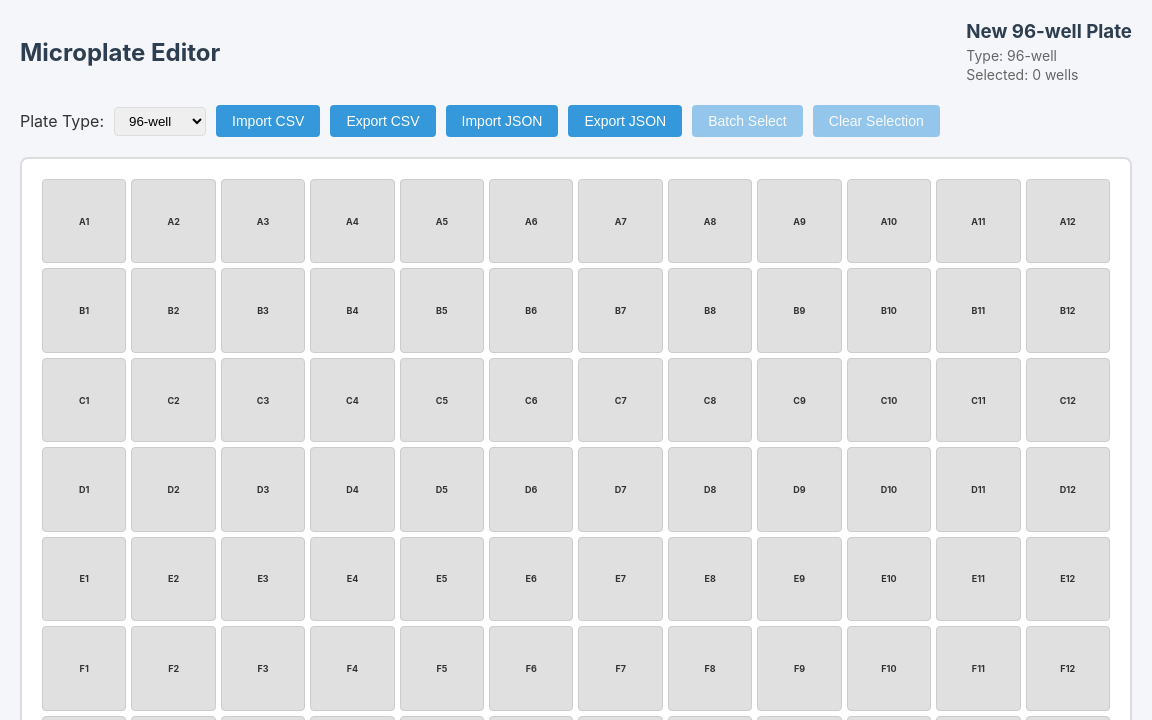
Test: MicroplateEditor › selects a well on click
# Click A1 by label text
Click the text "A1" at [84, 221], box [42,179,126,263]
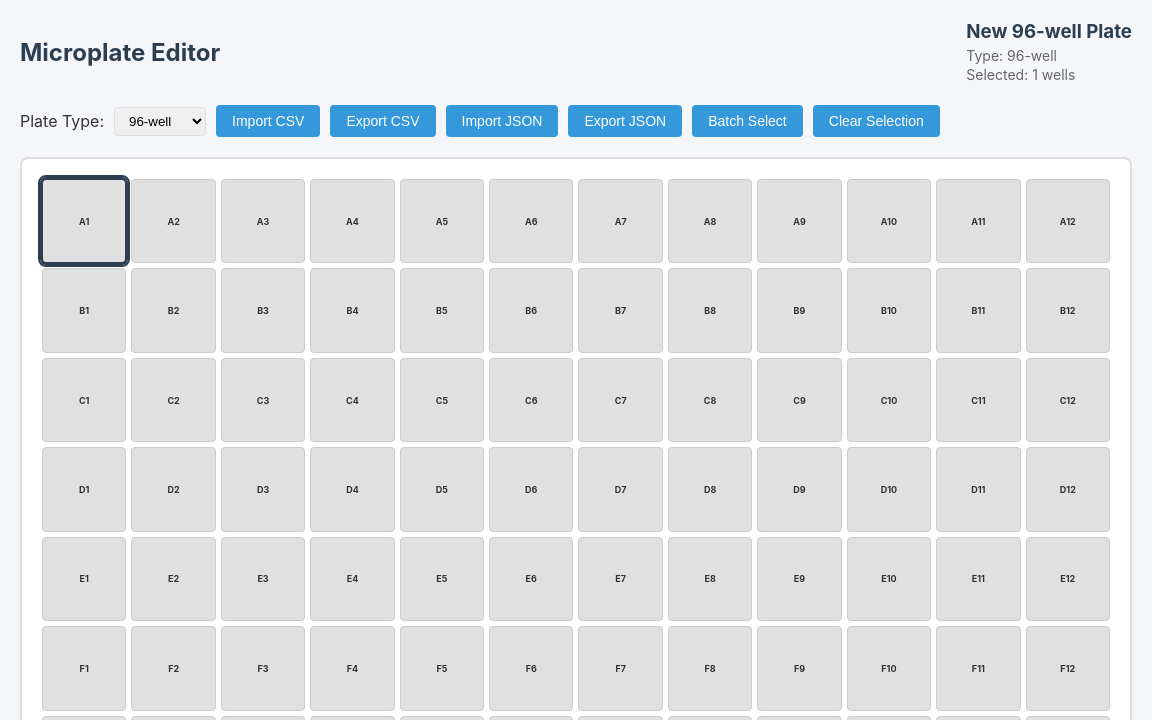
Expected: the text "Selected: 1 wells" is shown, [966,66,1075,83]
